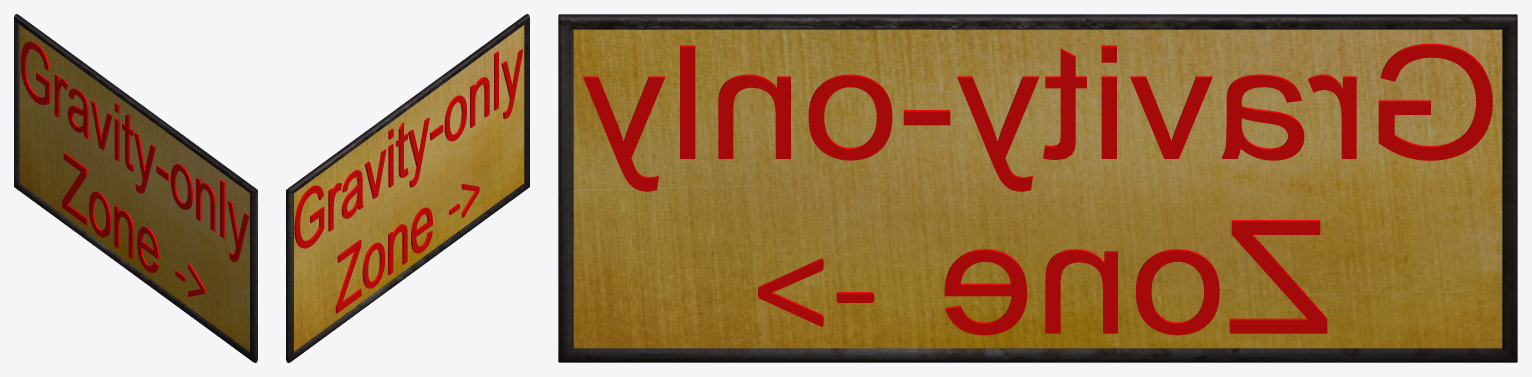
The model's file is goz.FBX.
The picture shows the model from 3 angles, left to right: view 1: azimuth 30°, elevation 25°; view 2: azimuth 150°, elevation 25°; view 3: azimuth 270°, elevation 25°; orthographic projection. The views are drawn at different scales.
Visible parts, largest first — view 1: Box001, 加强型文本004, 图形001; view 2: Box001, 加强型文本004, 图形001; view 3: Box001, 加强型文本004, 图形001.
Part boxes in pixels (<box>): Box001: <box>19,25,249,351</box>; 加强型文本004: <box>20,41,249,296</box>; 图形001: <box>14,14,257,362</box>; Box001: <box>294,25,524,351</box>; 加强型文本004: <box>294,49,523,313</box>; 图形001: <box>286,14,529,362</box>; Box001: <box>573,29,1502,348</box>; 加强型文本004: <box>583,43,1492,335</box>; 图形001: <box>558,14,1517,362</box>.
Bounding box in the file's own units: 2 × 49.65 × 124.
3 materials, 2 textured.
